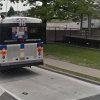Bus: (2, 11, 47, 72)
